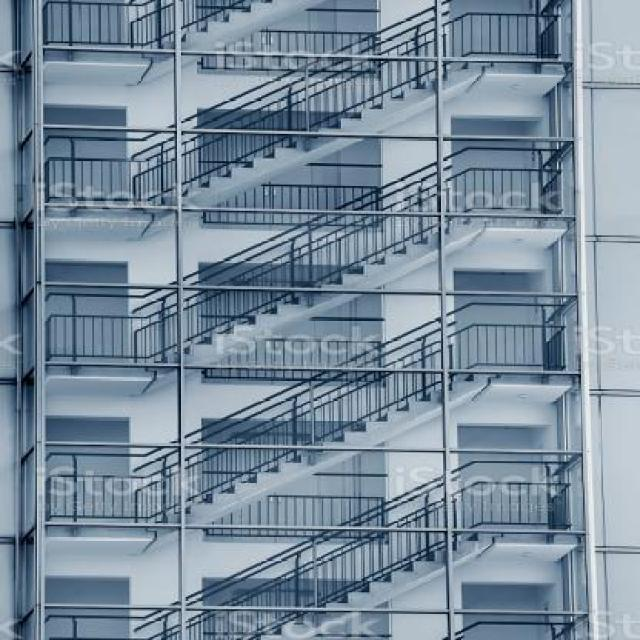stair: (39, 294, 562, 548)
